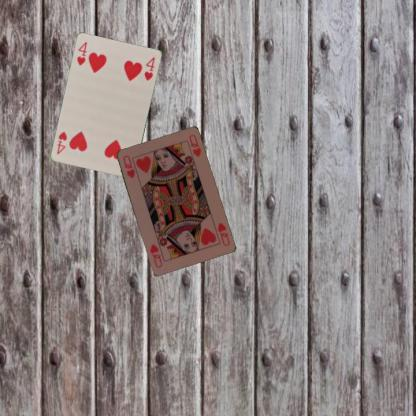4h: (74, 39, 88, 67)
Qh: (214, 220, 231, 247), (121, 152, 136, 180)
